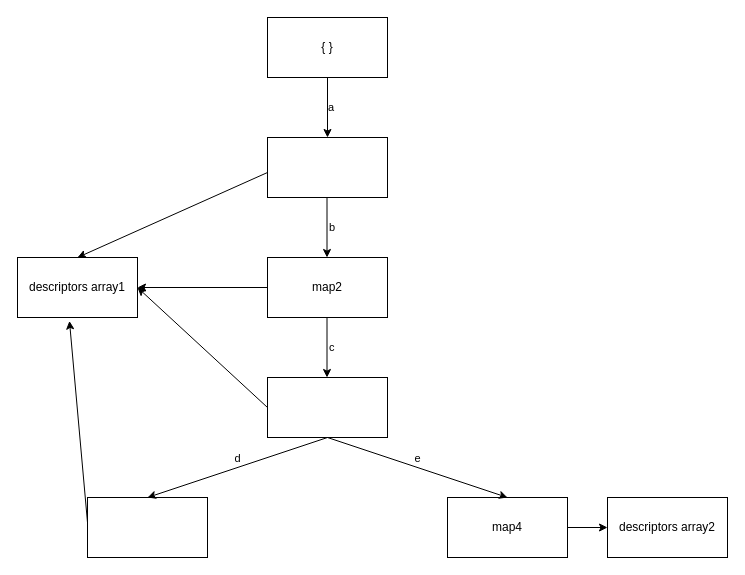
This 745x575 diagram has some shape labels left out. Here are the shapes that lost their labels. From the top down, the box of each, then its label:
(266, 136, 388, 198): map1
(266, 376, 388, 438): split map
(86, 496, 208, 558): map3
